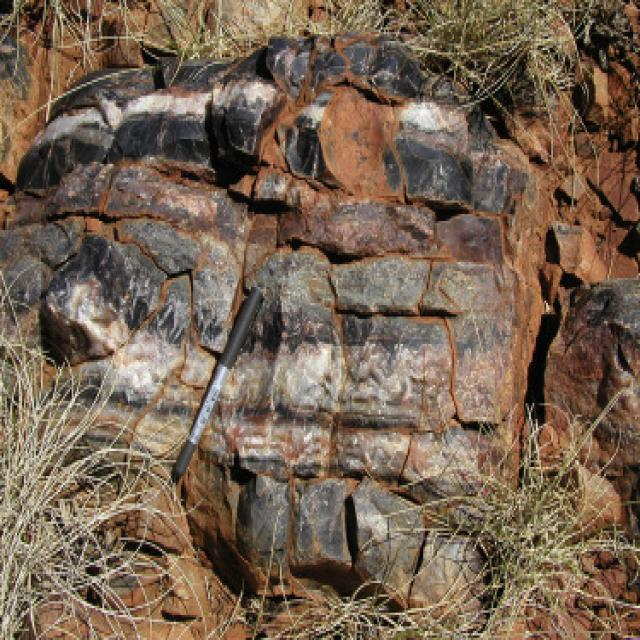Metamorphic: (16, 52, 568, 622)
